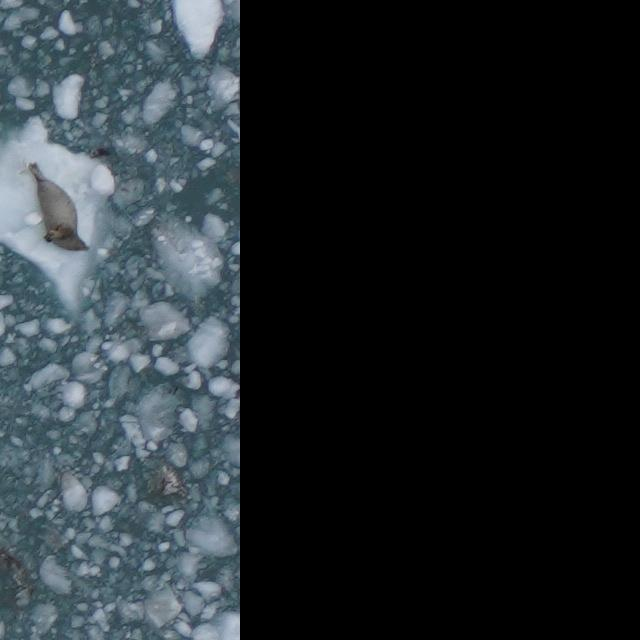seal: (23, 158, 96, 258)
